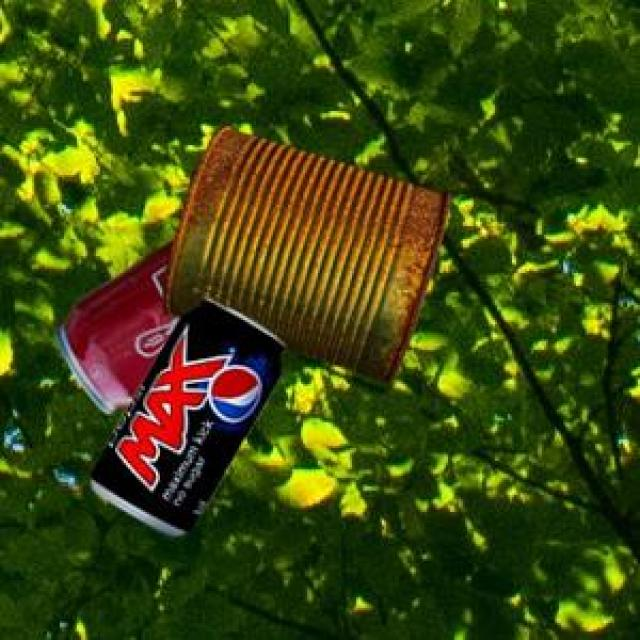logam: (161, 123, 447, 381), (89, 295, 281, 532), (52, 238, 178, 411)
